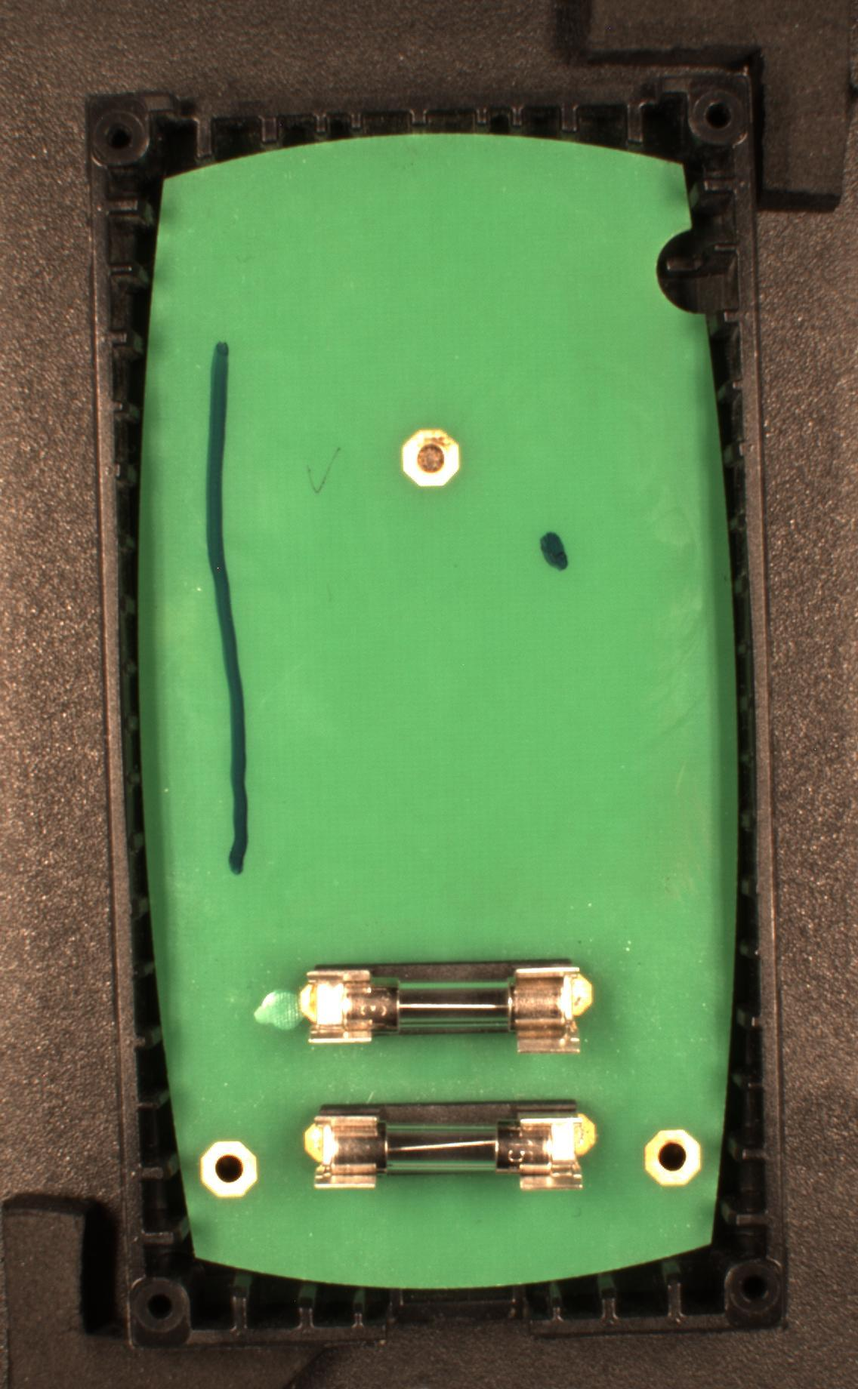Linijsko Ostecene: (205, 336, 252, 875)
Tockasto Ostecenje: (538, 530, 571, 574)
